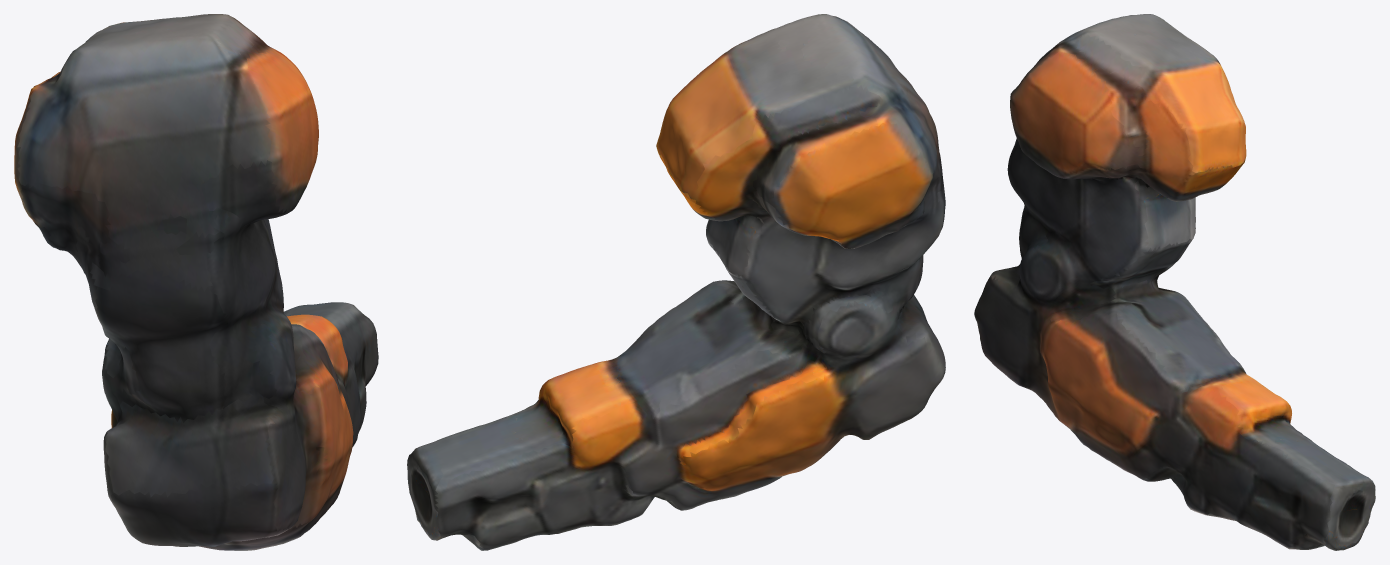
The model's file is L_Arm_5.glb.
3 renders of one model, left to right at view 1: azimuth 30°, elevation 25°; view 2: azimuth 150°, elevation 25°; view 3: azimuth 270°, elevation 25°, orthographic. The views are drawn at different scales.
Visible parts, largest first — view 1: world; view 2: world; view 3: world.
Part boxes in pixels (box(x1,y1,x2,y2)): world: box(14, 14, 378, 550); world: box(407, 14, 945, 550); world: box(974, 14, 1375, 550).
Bounding box in the file's own units: 0.6896 × 0.779 × 0.6619.
1 material, 1 textured.
